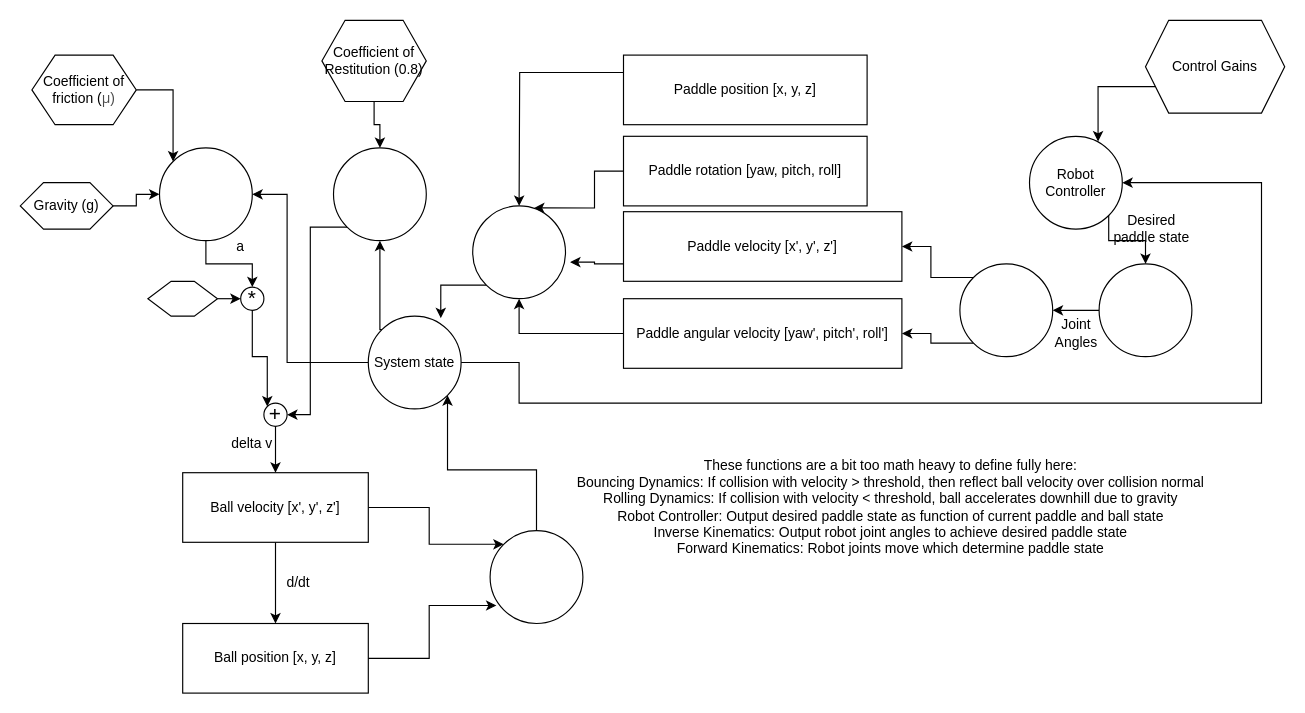
Some shapes in this 1305 by 713 pixel diagram are drawn without their labels. The centre of each missing label's shape, as x and y in pixels:
"Ball State" goes at (x=536, y=577).
"Bouncing Dynamics" goes at (x=379, y=194).
"dt" goes at (x=182, y=298).
"Forward Kinematics" goes at (x=1006, y=310).
"Inverse Kinematics" goes at (x=1145, y=310).
"Paddle State" goes at (x=519, y=252).
"Rolling Dynamics" goes at (x=205, y=194).
